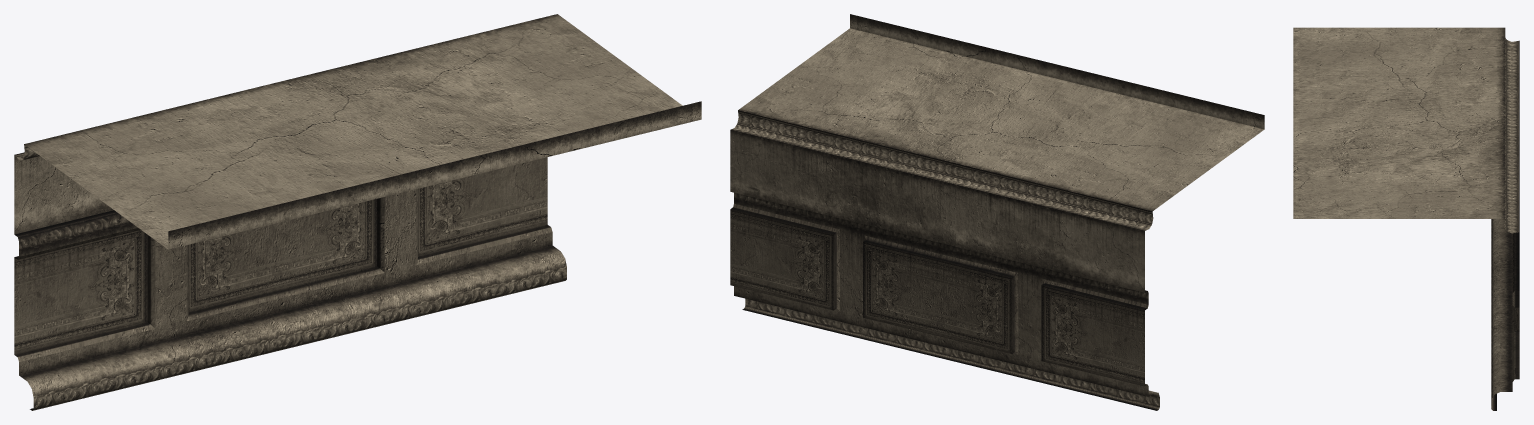
The model's file is concave01.dae.
3 views of the same model, side by side, from view 1: azimuth 30°, elevation 25°; view 2: azimuth 150°, elevation 25°; view 3: azimuth 270°, elevation 25° (orthographic). The views are drawn at different scales.
Parts seen in each view (by area): view 1: concave; view 2: concave; view 3: concave.
Part boxes in pixels (box(x1,y1,x2,y2)): concave: box(14, 14, 701, 410); concave: box(730, 14, 1264, 410); concave: box(1293, 27, 1519, 410).
Bounding box in the file's own units: 4 × 2 × 2.
Materials: 1 (1 with a texture image).
